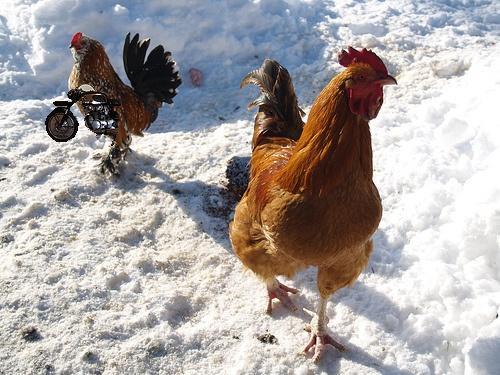tampered: (46, 85, 121, 146)
